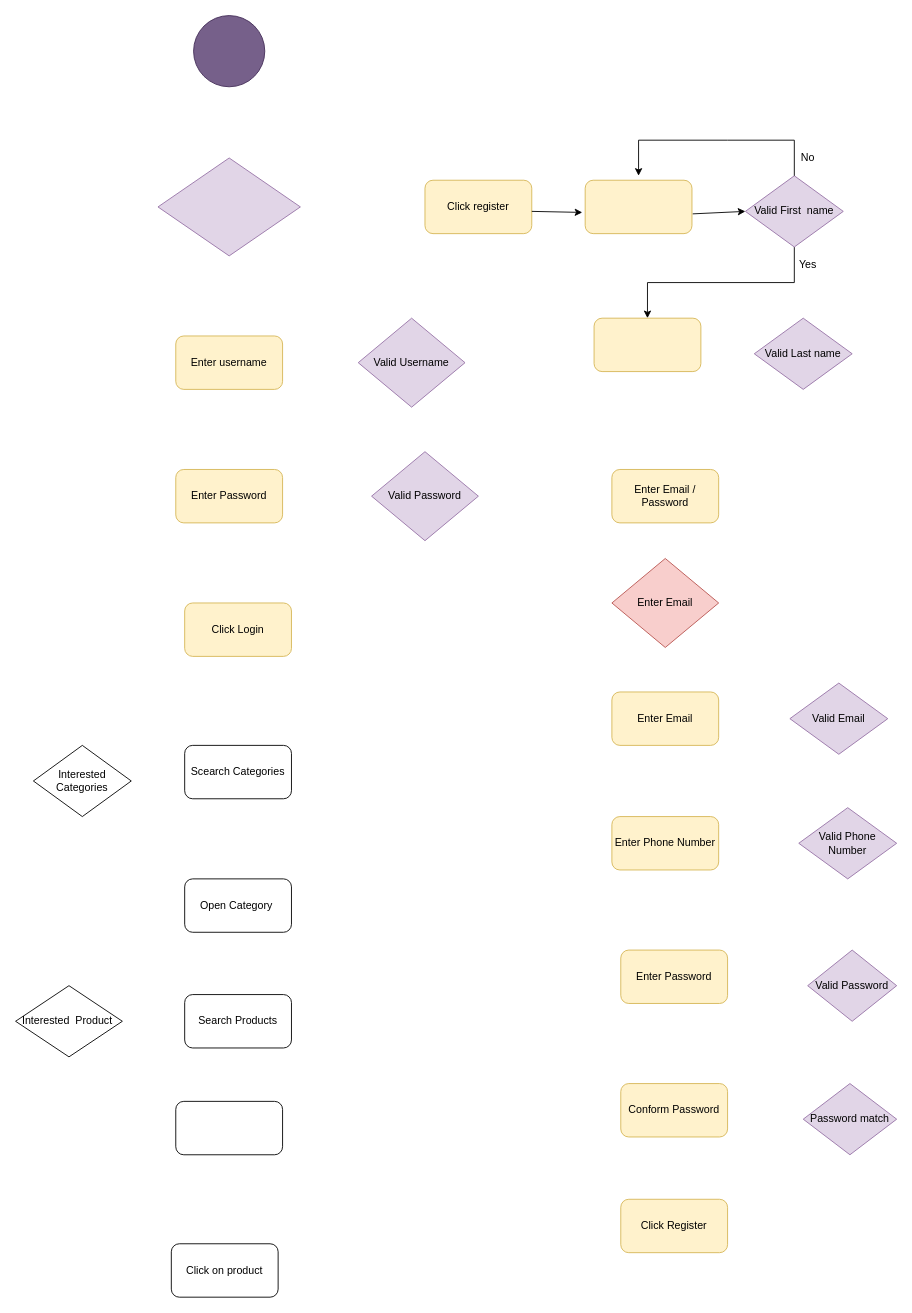
This 912x1313 diagram has some shape labels left out. The shapes that lost their labels are listed below. From the top down, each one's centre as x and y in pixels, then its label:
point (229, 51): Start
point (228, 206): Register user
point (638, 206): Enter First name
point (647, 344): Enter Last name
